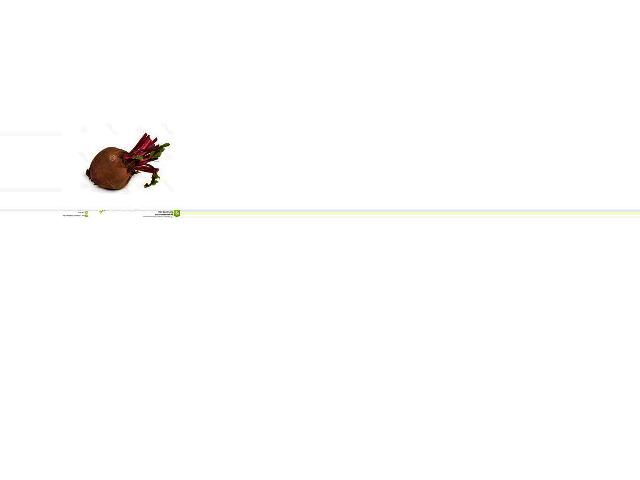beet: (85, 133, 168, 189)
